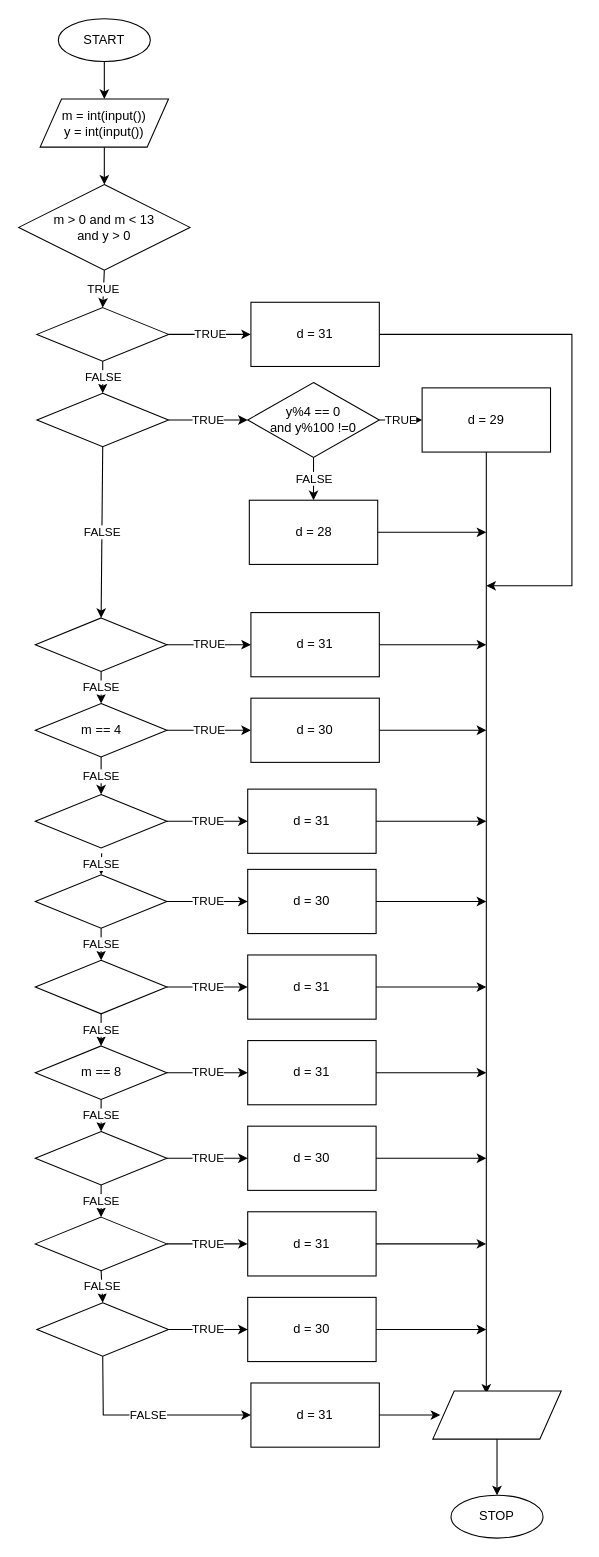
The diagram is 599 pixels wide and 1557 high, and some of its shapes have lost their labels. Each missing label, with the centre of its shape:
"m == 1" belongs at (102,334).
"m == 10" belongs at (100,1243).
"m == 11" belongs at (102,1329).
"m == 2" belongs at (102,419).
"m == 3" belongs at (100,644).
"m == 5" belongs at (100,820).
"m == 6" belongs at (100,901).
"m == 7" belongs at (100,986).
"m == 9" belongs at (100,1157).
"print(d)" belongs at (496,1414).
